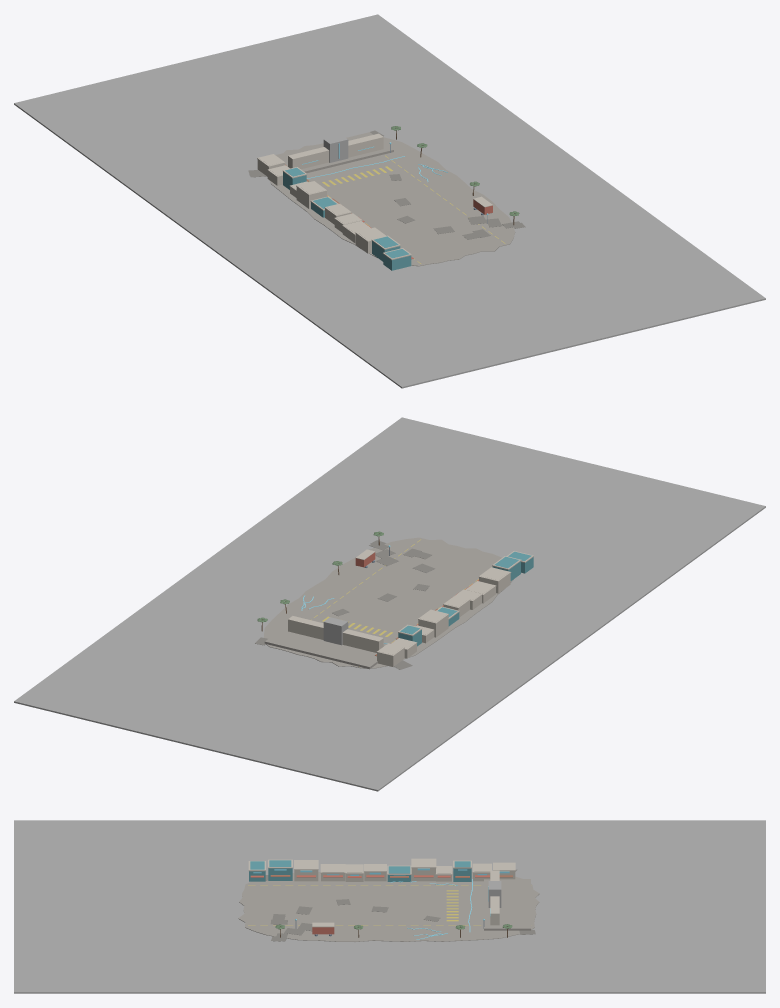
Rendered from sunset.glb.
The picture shows the model from 3 angles, top to bottom: view 1: azimuth 30°, elevation 25°; view 2: azimuth 150°, elevation 25°; view 3: azimuth 270°, elevation 25°; orthographic projection. The views are drawn at different scales.
Visible parts, largest first — view 1: Static; view 2: Static; view 3: Static.
Part boxes in pixels (bbox=[...]): Static: bbox=[14, 14, 765, 388]; Static: bbox=[14, 417, 765, 791]; Static: bbox=[14, 820, 765, 993].
Bounding box in the file's own units: 52 × 3.16 × 96.
